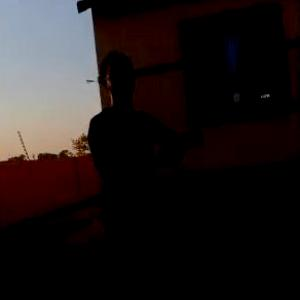follow: (79, 49, 210, 299)
